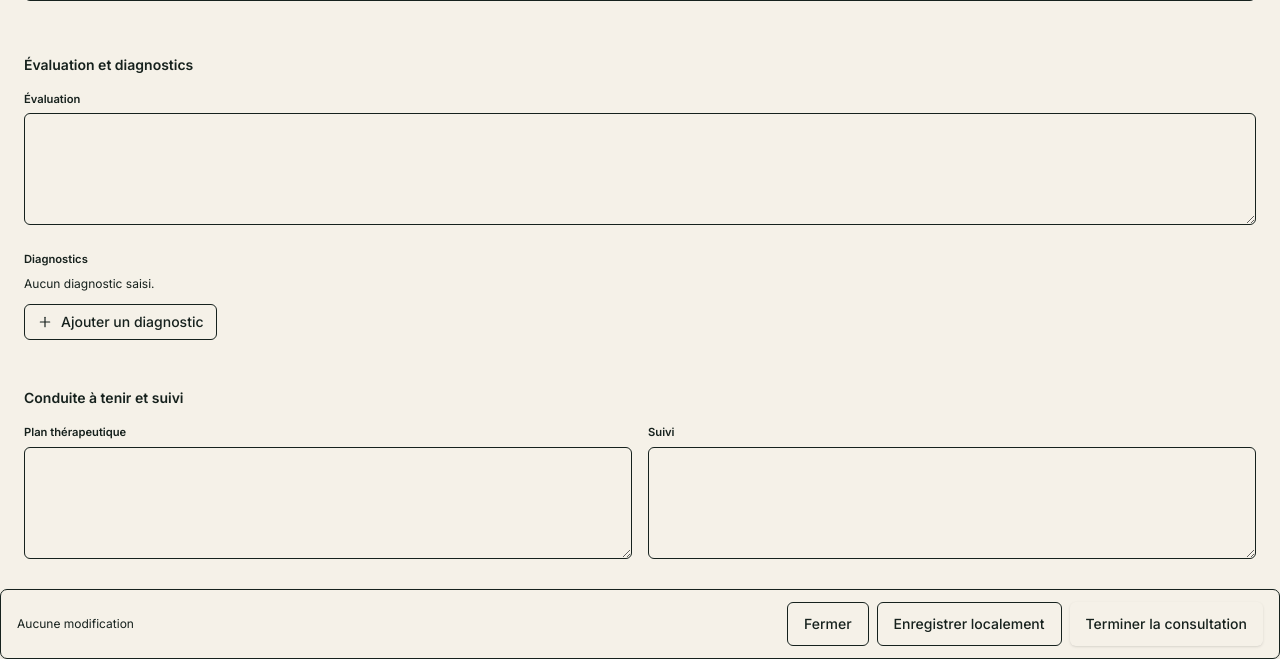
Test: the diagnoses section › lets the doctor add, remove and designate the main diagnosis: only one is main
(page scrolled)
Click the button "Ajouter un diagnostic" at [120, 322], box [24,304,216,340]
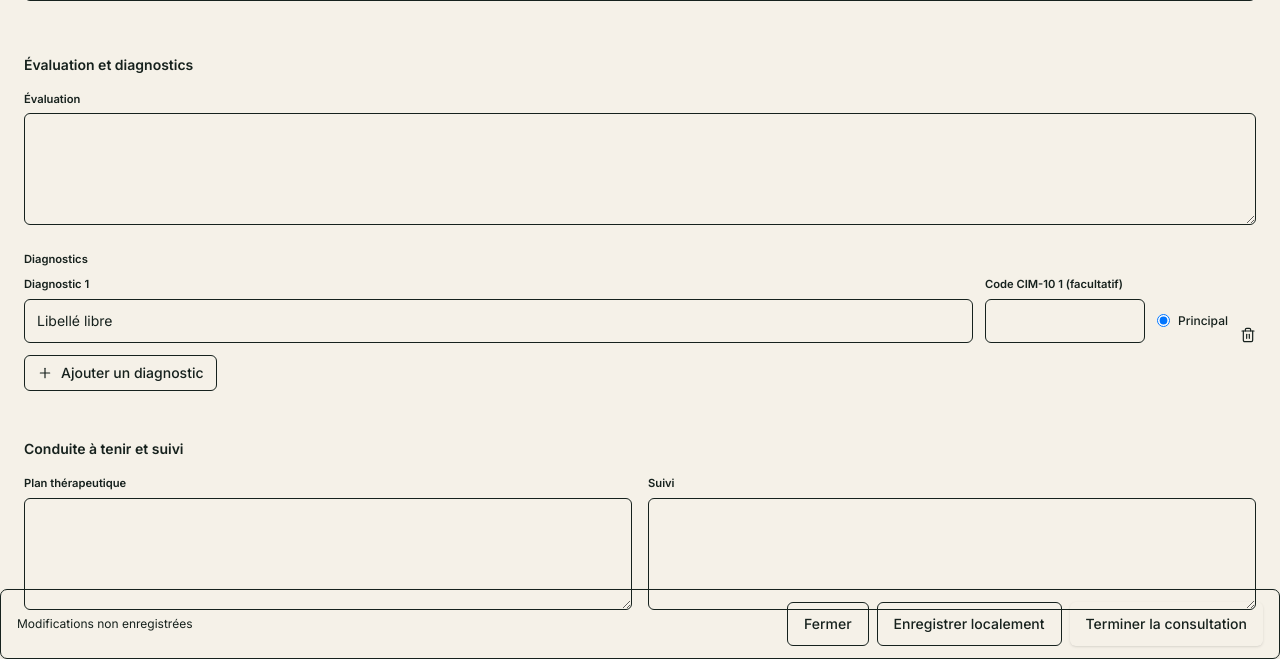
Click the button "Ajouter un diagnostic" at [120, 373], box [24,355,216,391]
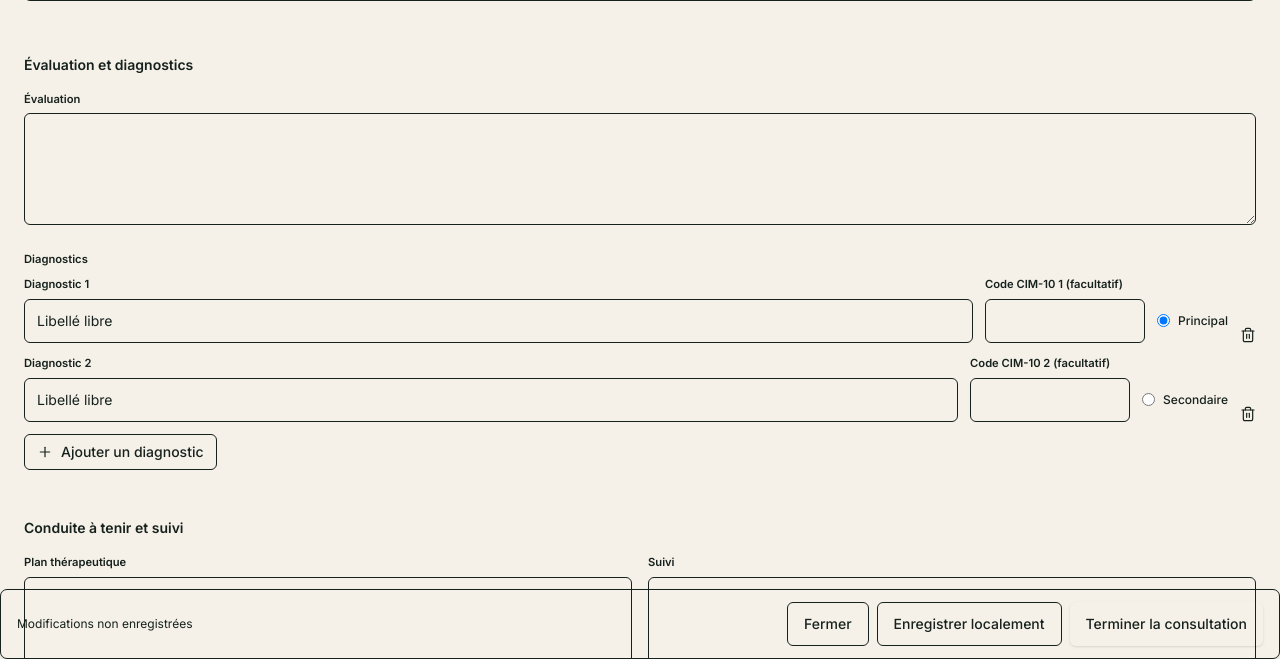
Type "Hypertension artérielle" into the field labelled "Diagnostic 1" at [498, 321], box [24,299,973,343]
Type "Surpoids" into the field labelled "Diagnostic 2" at [491, 400], box [24,378,958,422]
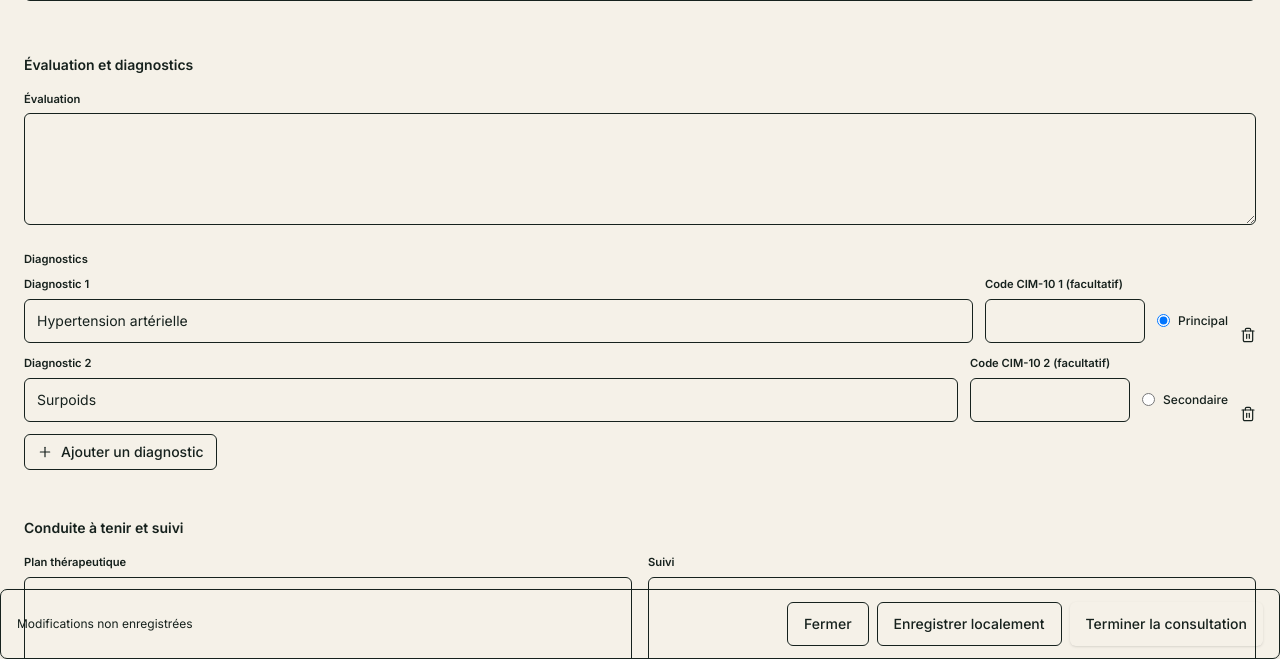
Type "I10" into the field labelled "Code CIM-10 1 (facultatif)" at [1065, 321], box [985,299,1145,343]
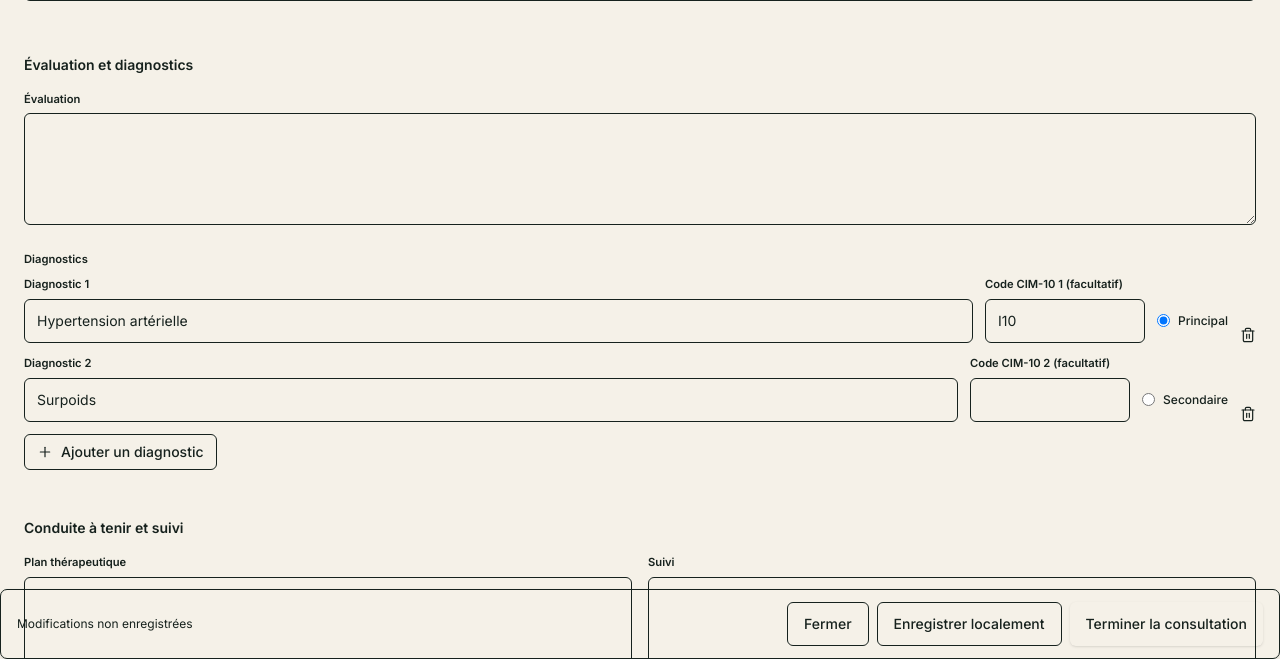
Click the radio button labelled "Secondaire" at [1149, 400], box [1142,393,1155,406]
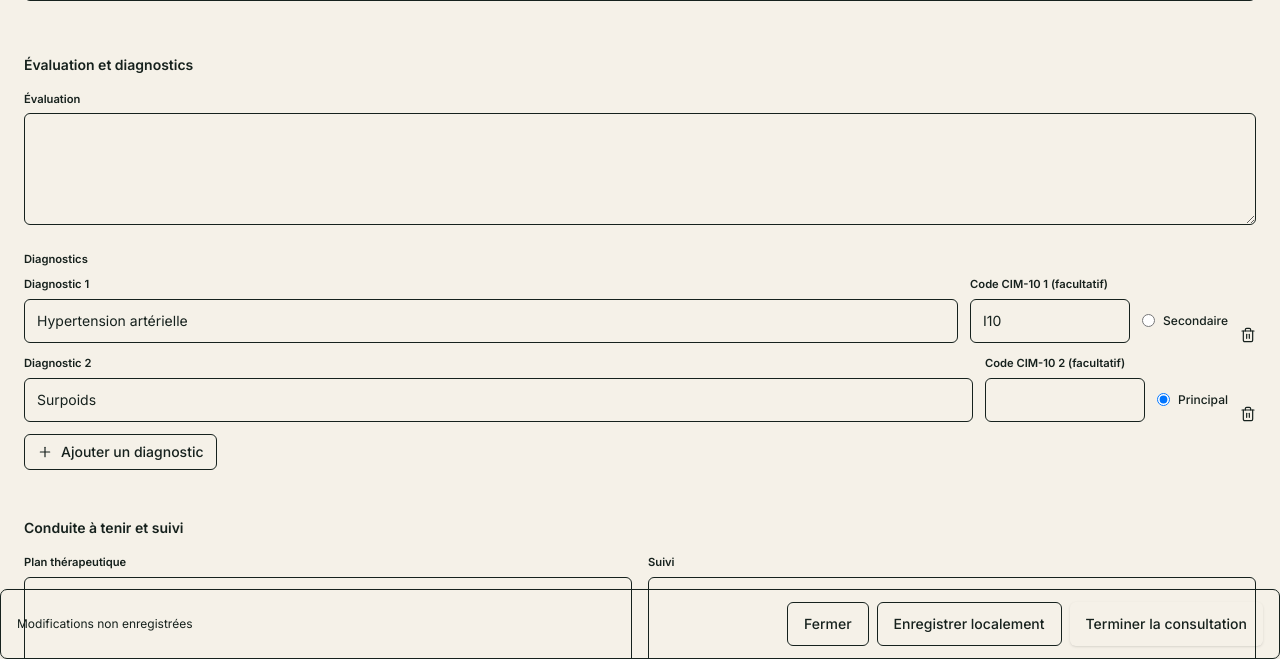
expect the text "Secondaire" is shown once: met, box [1142,313,1228,328]
expect the text "Principal" is shown: met, box [1157,392,1228,407]
Click the button named "Supprimer le diagnostic 2" at [1248, 414], box [1240,406,1256,422]
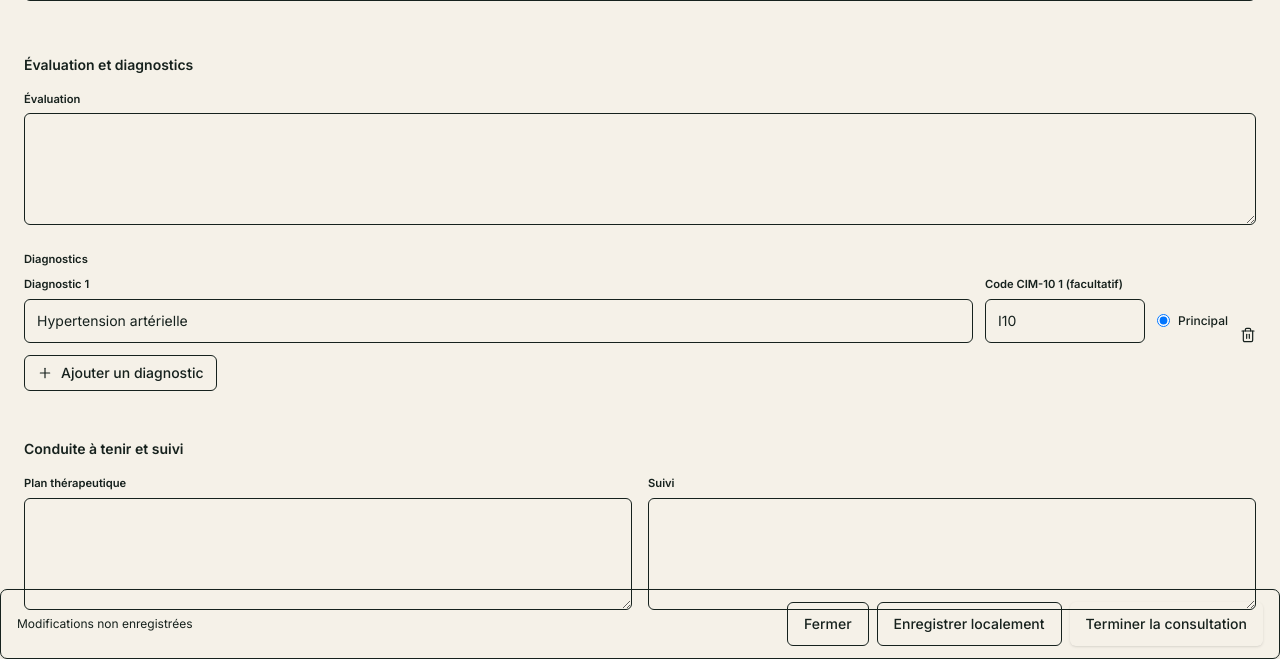
expect the number of radio buttons is 1: met, box [1157,314,1170,327]
expect the radio button is checked: met, box [1157,314,1170,327]
